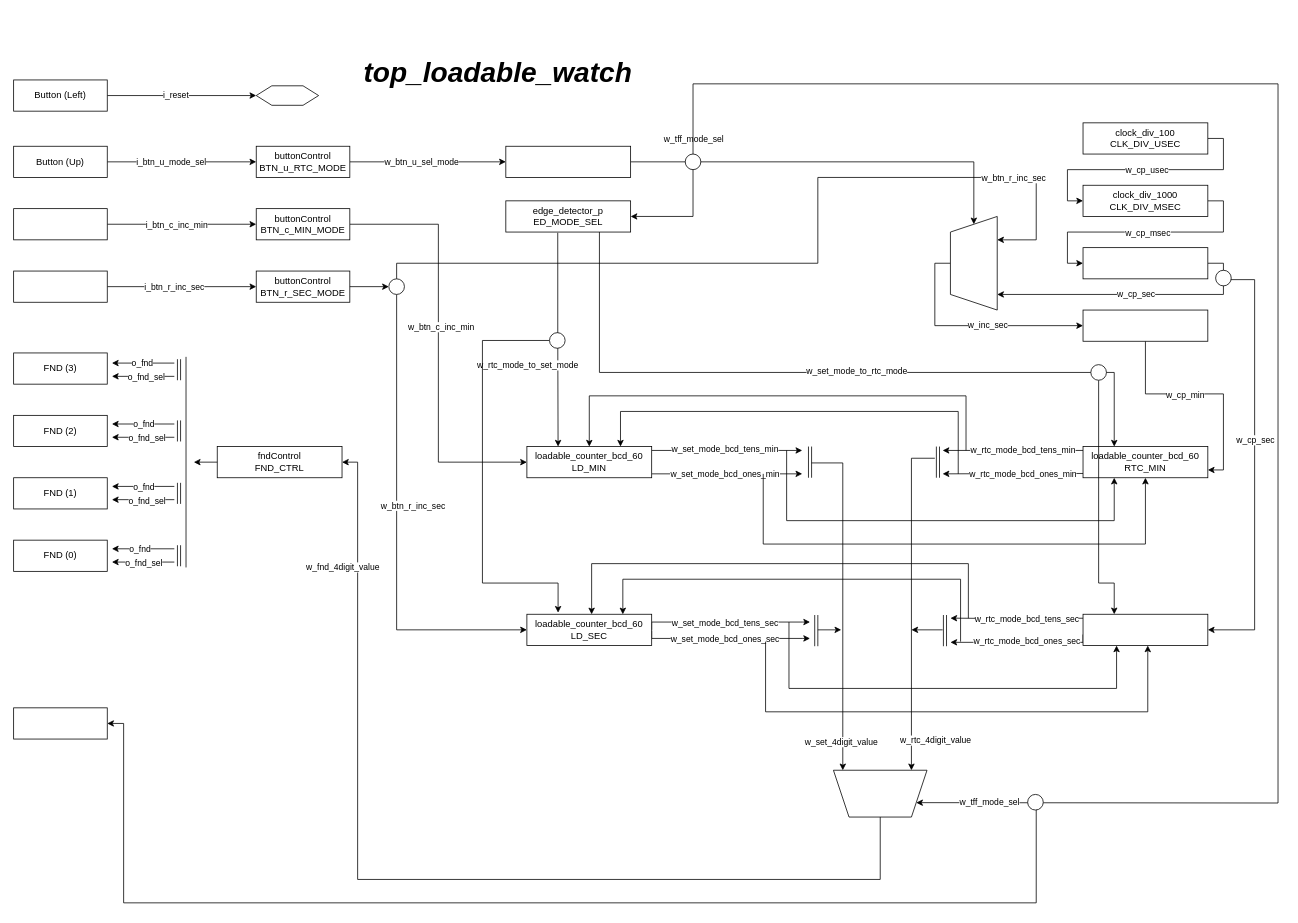
The diagram is 1298 pixels wide and 923 high, and some of its shapes have lost their labels. Each missing label, with the centre of its shape:
"Button (Center)" goes at (60,224).
"Button (Right)" goes at (60,286).
"clock_div_1000 CLK_DIV_SEC" goes at (1145,263).
"clock_div_60 CLK_DIV_MIN" goes at (1145,325).
"LED (0)" goes at (60,723).
"loadable_counter_bcd_60 RTC_SEC" goes at (1145,629).
"RESET" goes at (287,95).
"T_flip_flop_p MODE_SELECTOR" goes at (568,161).
